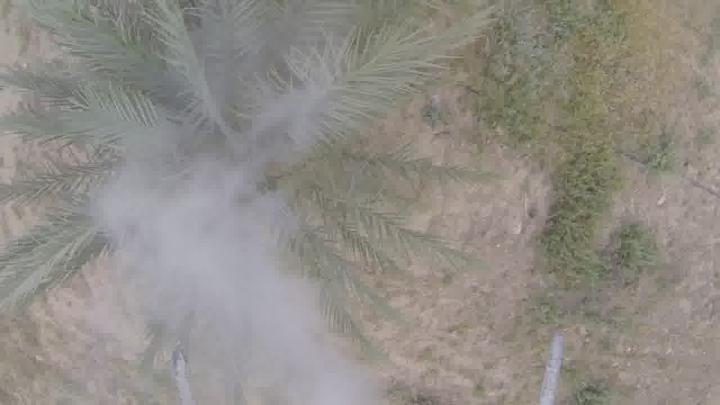Date-Palm-Crown: (81, 28, 359, 284)
